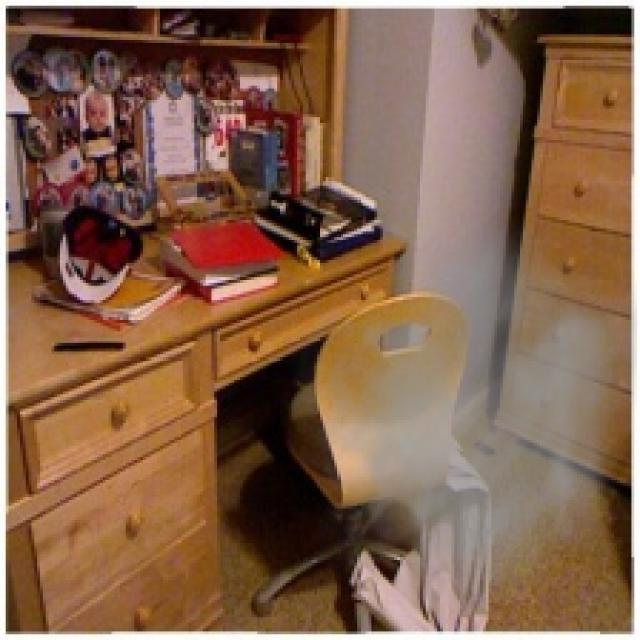Smoke: (282, 208, 638, 628)
